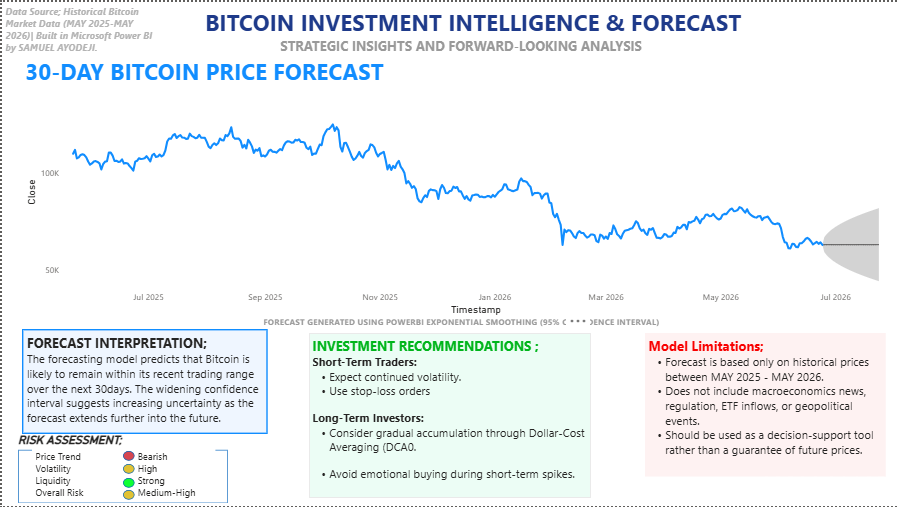

Layout of this report page (visuals, bound fields, positions):
{"tool":"powerbi","page":{"name":"Investment Intelligence ","canvas":[1280,720],"ordinal":1},"visuals":[{"type":"textbox","box":[378.5,44.6,554.7,41.3],"z":0},{"type":"textbox","box":[368.9,443.2,587.7,27.5],"z":1000},{"type":"textbox","box":[275.3,1.9,795.5,53],"z":2000},{"type":"lineChart","title":"30-DAY BITCOIN PRICE FORECAST","fields":{"Category":["Bitcoin_.timestamp"],"Y":["Sum(Bitcoin_.close)"]},"box":[28.9,76.2,1251.1,377.1],"z":3000},{"type":"textbox","box":[918,473.5,344.1,205.1],"z":4000},{"type":"textbox","box":[28.9,466.6,351,150],"z":5000},{"type":"textbox","box":[439.1,473.5,401.9,235.4],"z":6000},{"type":"shape","title":"RISK ASSESSMENT;","box":[23.4,615.2,300,100.5],"z":7000},{"type":"textbox","box":[42.7,635.9,261.5,78.5],"z":8000},{"type":"shape","box":[173.4,641.4,16.5,13.8],"z":9000},{"type":"shape","box":[173.4,660.6,16.5,13.8],"z":10000},{"type":"shape","box":[173.4,679.9,16.5,13.8],"z":11000},{"type":"shape","box":[173.4,696.4,16.5,13.8],"z":12000},{"type":"textbox","box":[0,0,235.4,85.3],"z":12001}]}

Visuals, with their boxes in screenshot pixels (x1, y1, x2, y2), scaled from the page's 1280x720 canvas onto the 897x507 screenshot:
textbox: [x1=265, y1=31, x2=654, y2=60]
textbox: [x1=259, y1=312, x2=670, y2=331]
textbox: [x1=193, y1=1, x2=750, y2=39]
"30-DAY BITCOIN PRICE FORECAST" lineChart: [x1=20, y1=54, x2=896, y2=319]
textbox: [x1=643, y1=333, x2=884, y2=478]
textbox: [x1=20, y1=329, x2=266, y2=434]
textbox: [x1=308, y1=333, x2=589, y2=499]
"RISK ASSESSMENT;" shape: [x1=16, y1=433, x2=227, y2=504]
textbox: [x1=30, y1=448, x2=213, y2=503]
shape: [x1=122, y1=452, x2=133, y2=461]
shape: [x1=122, y1=465, x2=133, y2=475]
shape: [x1=122, y1=479, x2=133, y2=488]
shape: [x1=122, y1=490, x2=133, y2=500]
textbox: [x1=0, y1=0, x2=165, y2=60]
